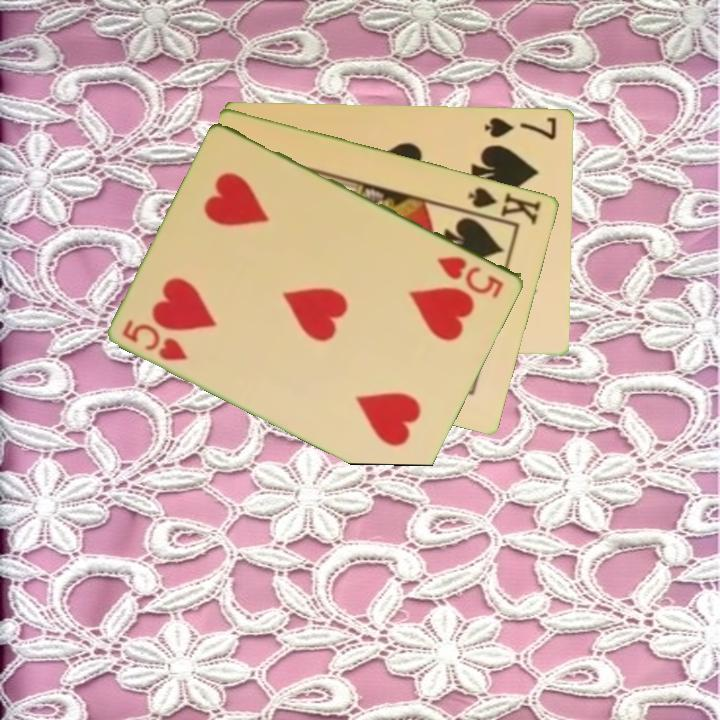5h: (433, 252, 507, 302), (119, 315, 191, 364)
7s: (481, 113, 560, 142)
Ks: (465, 183, 545, 228)
